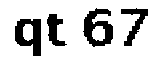6: (78, 5, 114, 50)
7: (118, 7, 150, 51)
q: (14, 16, 44, 60)
t: (48, 12, 70, 48)
